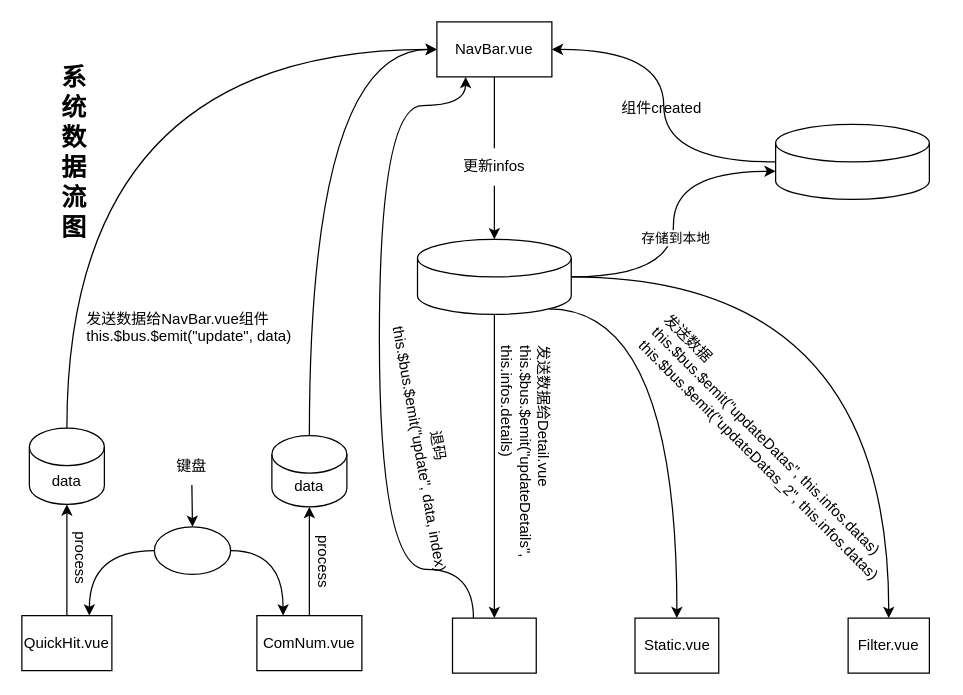
Some shapes in this 963 by 695 pixel diagram are drawn without their labels. Here are the shapes that lost their labels. From the top down, the centre of each, then its label:
the point at 851,161: localStorge
the point at 493,276: infos:{datas, details}
the point at 192,550: input
the point at 493,645: Detail.vue
